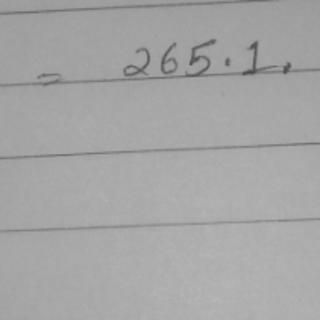.: (282, 61, 295, 75), (223, 54, 235, 68)
1: (244, 40, 260, 76)
2: (122, 46, 155, 76)
5: (186, 36, 216, 78)
6: (160, 40, 179, 78)
